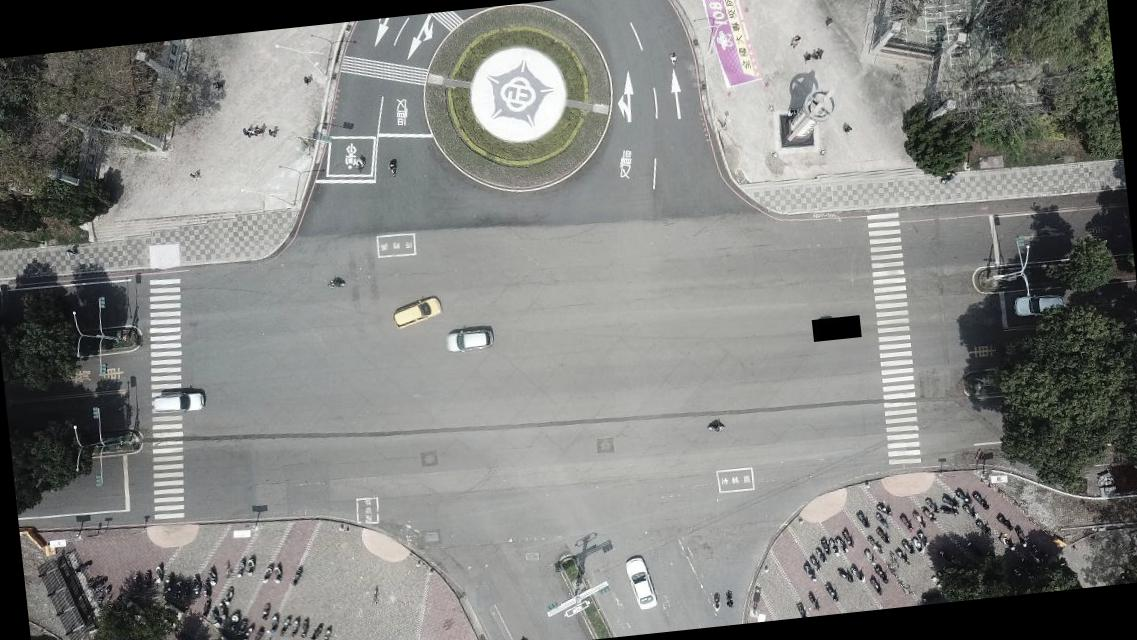vehicle: (622, 552, 661, 612), (390, 294, 444, 330), (150, 386, 206, 418), (1010, 290, 1065, 320), (444, 323, 496, 354)
